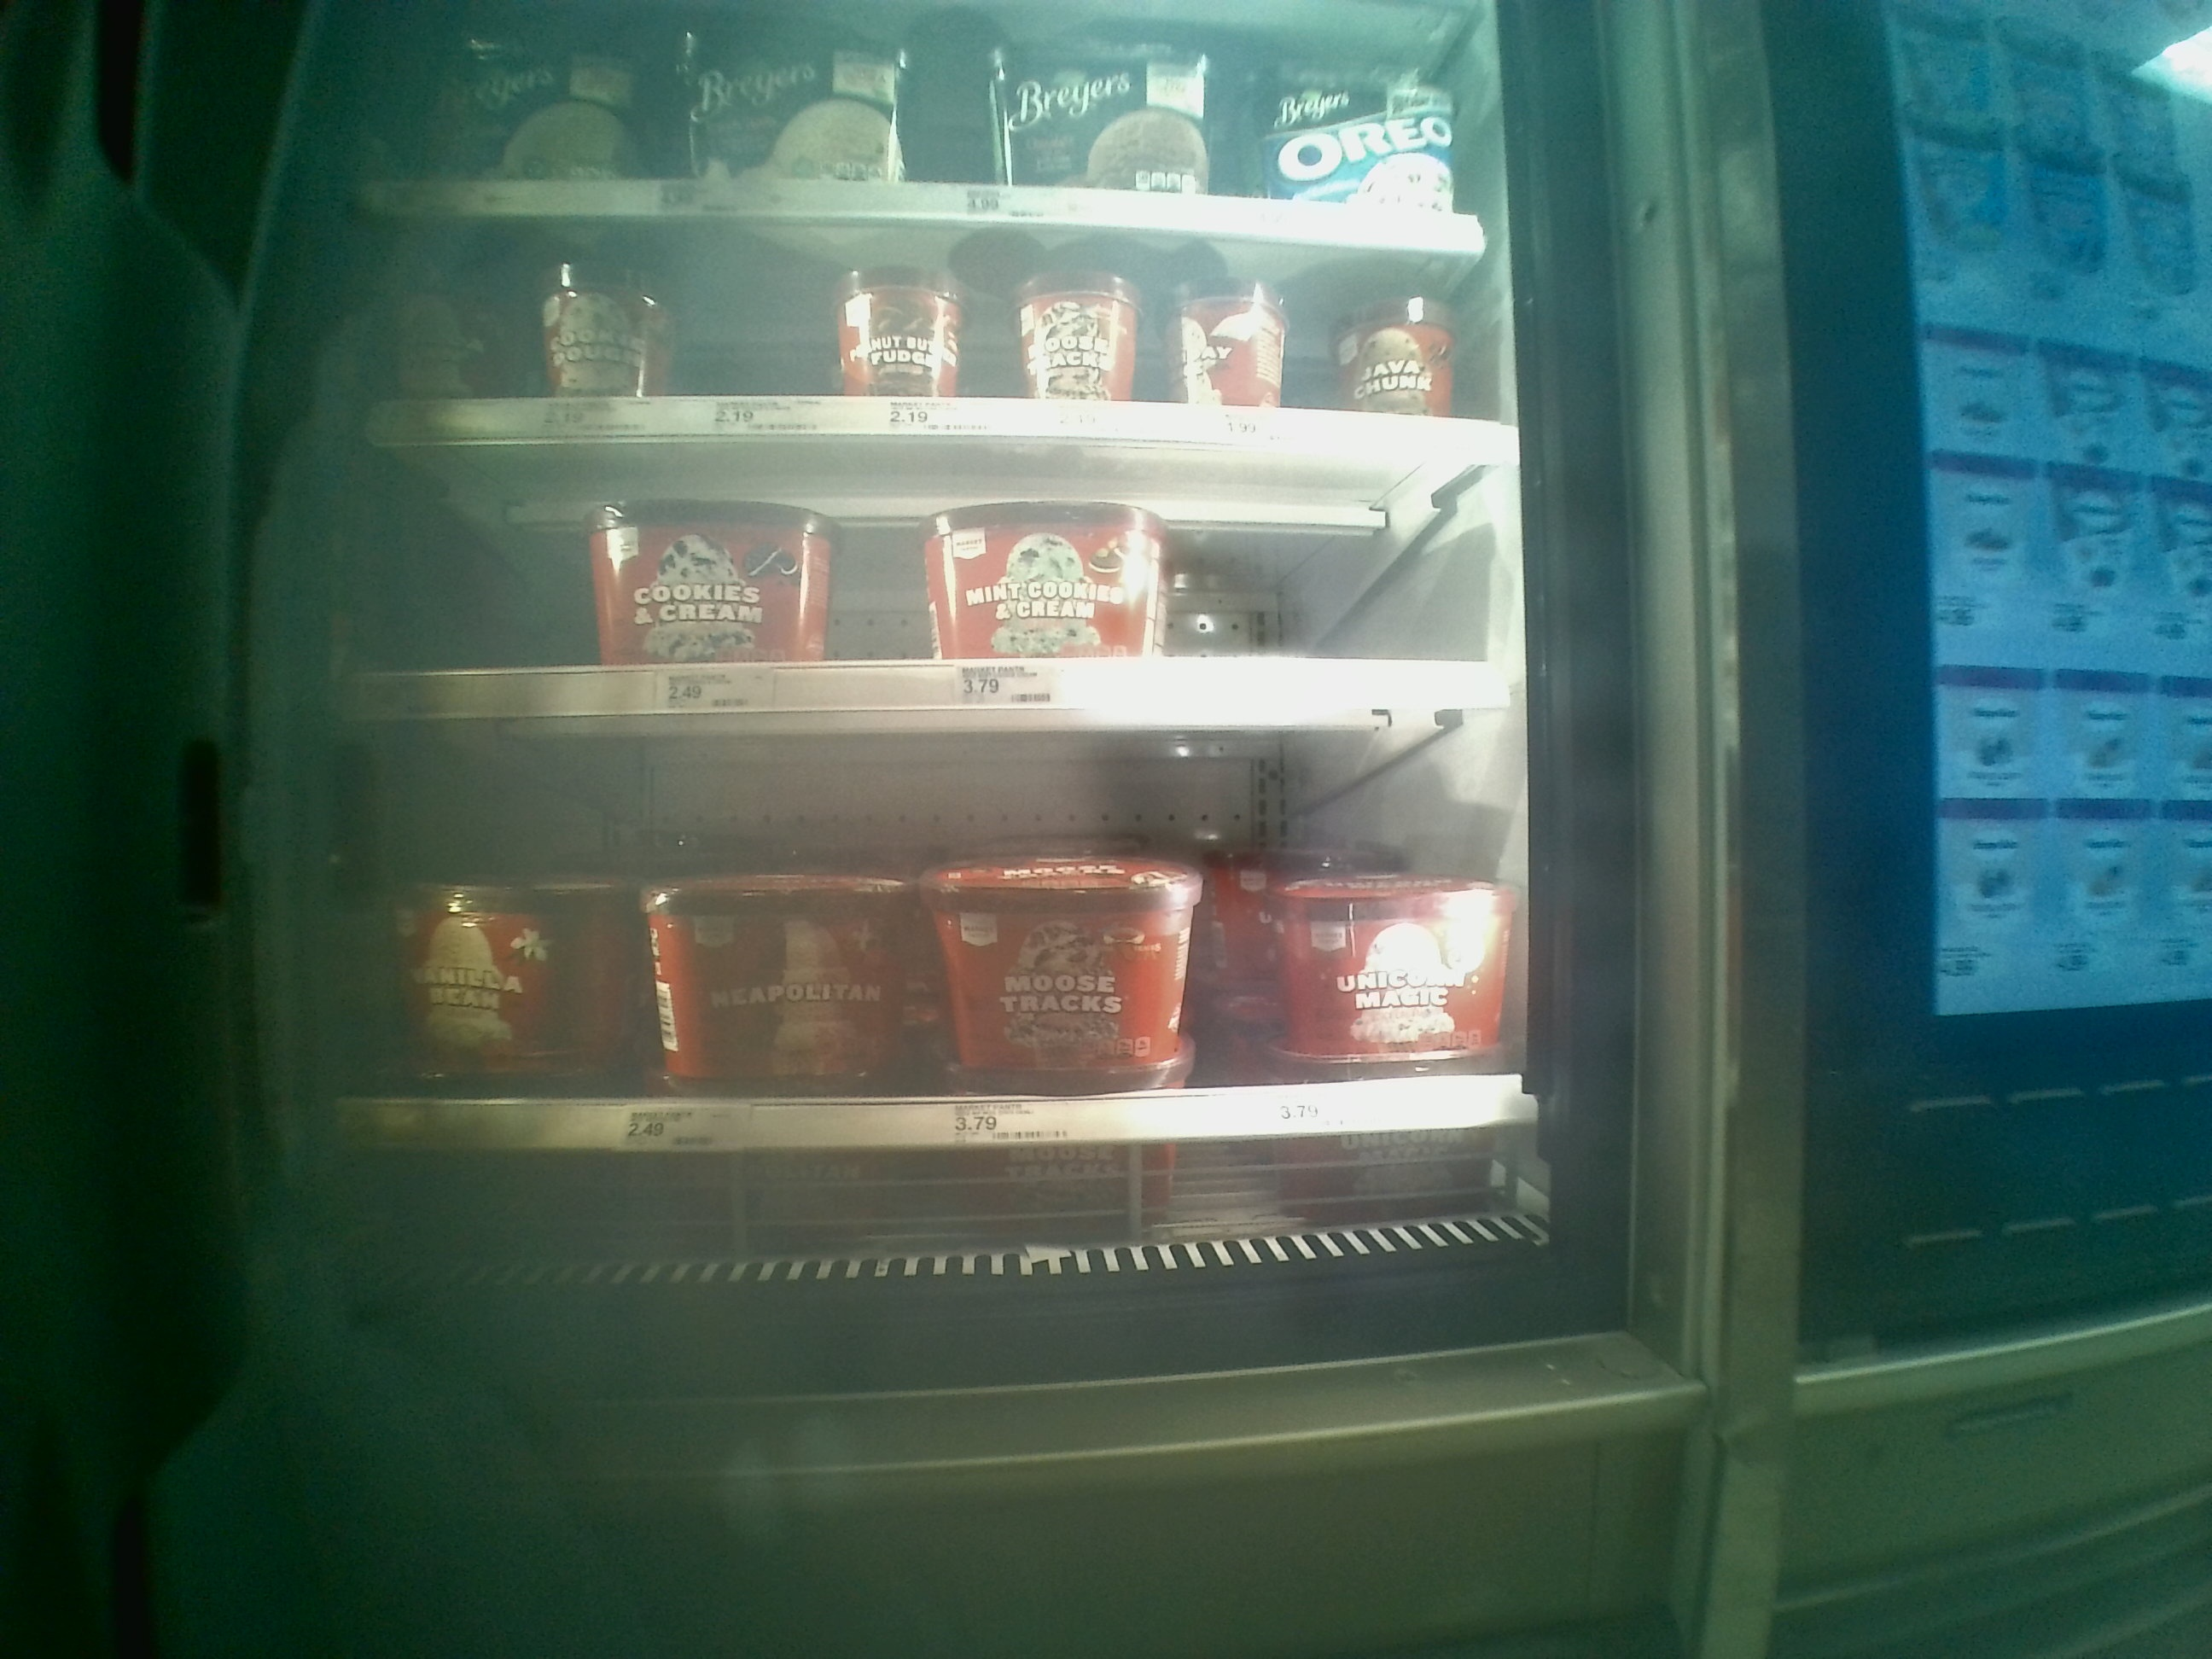shelf: (359, 732, 1531, 1143), (361, 437, 1526, 723), (359, 199, 1526, 439)
